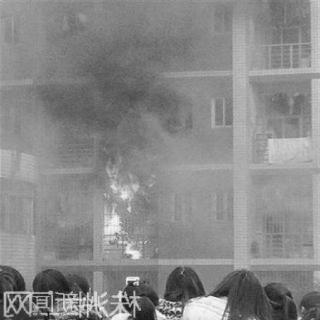Fire: (101, 105, 157, 261)
